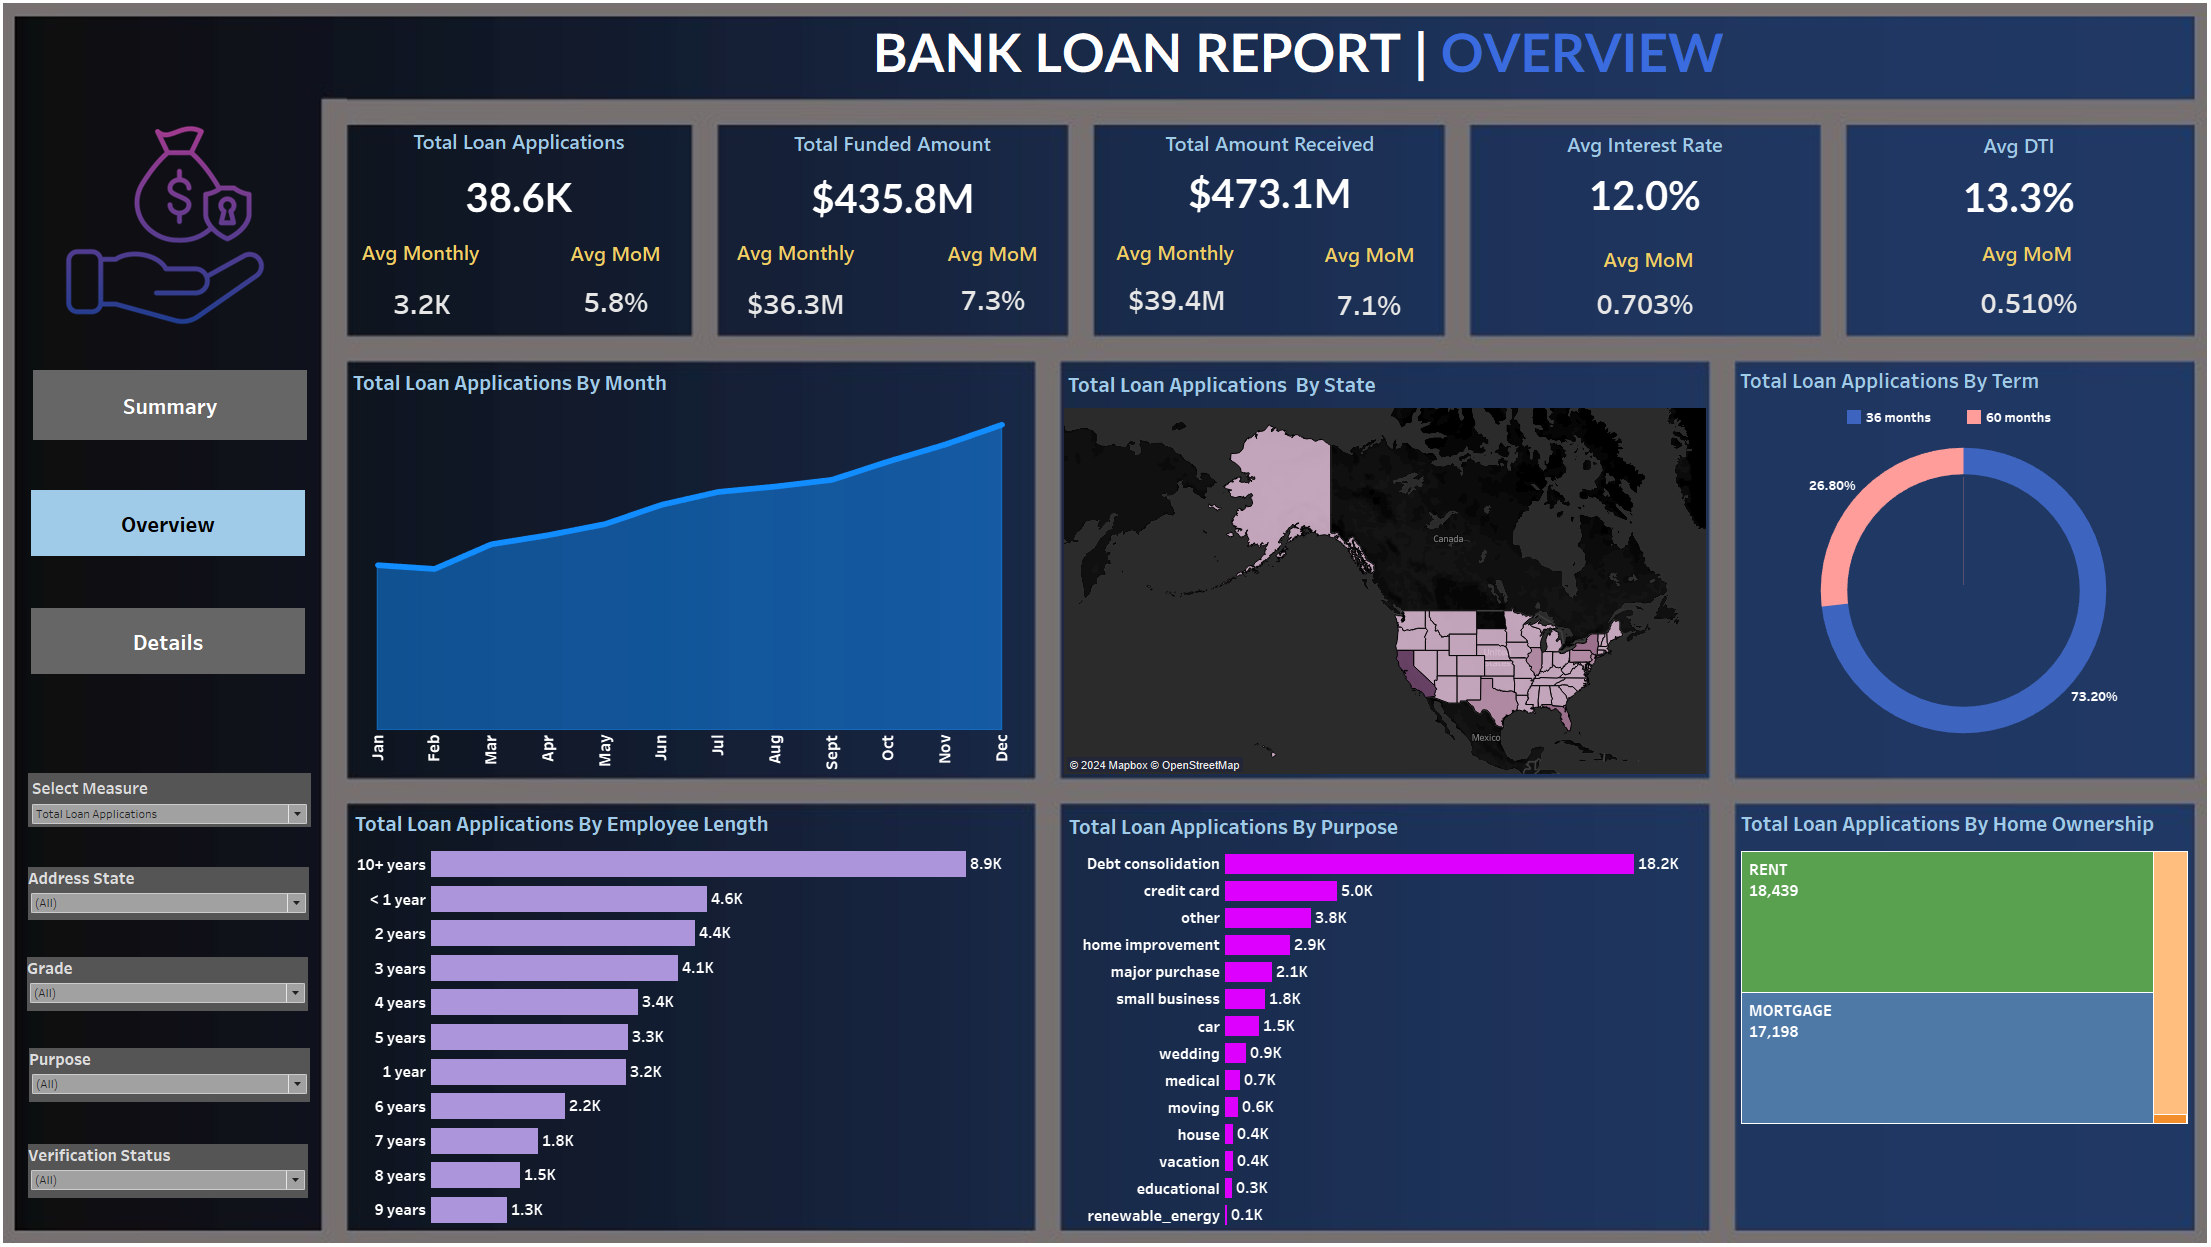

Layout of this report page (visuals, bound fields, positions):
{"tool":"tableau","page":{"name":"Overview","canvas":[2349,1264],"ordinal":1},"visuals":[{"type":"image","param":"C:/Users/AAA/Documents/Coding/SQL/Projects/Bank Loan Project/src/img/Dashboard/T","box":[8,8,2333,1248]},{"type":"text","box":[934.9,27,920.1,76]},{"type":"image","param":"C:/Users/AAA/Documents/Coding/SQL/Projects/Bank Loan Project/src/img/Dashboard/c","box":[122,129,224,210]},{"type":"worksheet","title":"Total Loan Applications","mark":"Automatic","box":[417,132,342,112]},{"type":"worksheet","title":"Total Funded Amount","mark":"Automatic","box":[787,134,349,109]},{"type":"worksheet","title":"Total Amount Received","mark":"Automatic","box":[1165,134,348,99]},{"type":"worksheet","title":"Avg Interest Rate","mark":"Automatic","box":[1540,135,348,101]},{"type":"worksheet","title":"Avg DTI","mark":"Automatic","box":[1916,136,344,103]},{"type":"text","box":[425,246,129,30]},{"type":"text","box":[800,246,129,30]},{"type":"text","box":[1179,246,130,30]},{"type":"text","box":[620,247,129,30]},{"type":"text","box":[997.5,247,129.3,30]},{"type":"text","box":[2031,247,130,30]},{"type":"text","box":[1374,248,129,30]},{"type":"text","box":[1653,253,129,30]},{"type":"worksheet","title":"Avg MoM Loan Applications","mark":"Automatic","cols":["issue_date"],"box":[611,276,148,68]},{"type":"worksheet","title":"Avg MoM Funded Loan","mark":"Automatic","cols":["issue_date"],"box":[989,276,146.3,63]},{"type":"worksheet","title":"Avg Monthly Amount Received","mark":"Automatic","box":[1169,277,153,62]},{"type":"worksheet","title":"Avg Monthly Funded Loan","mark":"Automatic","box":[790,280,150,63]},{"type":"worksheet","title":"MoM DTI","mark":"Automatic","cols":["issue_date"],"box":[2032,280,132,62]},{"type":"worksheet","title":"Avg Monthly Loan Applications","mark":"Automatic","box":[416,281,150,62]},{"type":"worksheet","title":"Avg MoM Amount Received","mark":"Automatic","cols":["issue_date"],"box":[1361,281,153,64]},{"type":"worksheet","title":"MoM Interest Rate","mark":"Automatic","cols":["issue_date"],"box":[1635,281,158,62]},{"type":"worksheet","title":"Term","mark":"Pie","rows":["Calculation_3651293419468369944","Calculation_3651293419468369944"],"box":[1805,371,455,414]},{"type":"worksheet","title":"Month","mark":"Area","rows":["Calculation_3651293419462627350","Calculation_3651293419462627350"],"cols":["issue_date"],"box":[418,373,681,409]},{"type":"worksheet","title":"State","mark":"Multipolygon","box":[1133,375,642,408]},{"type":"dashboard-object","box":[102,379,274,70]},{"type":"legend","title":"Term","param":"[federated.0fsphwt0lwau0m1359zk90dzj1ah].[none:term:nk]","box":[1913,416,266,23]},{"type":"dashboard-object","box":[100,499,274,66]},{"type":"dashboard-object","box":[100,617,274,66]},{"type":"parameter","param":"[Parameters].[Parameter 1]","box":[97,782,283,54]},{"type":"worksheet","title":"Emp Length","mark":"Automatic","rows":["emp_length"],"cols":["Calculation_3651293419462627350"],"box":[420,814,682,422]},{"type":"worksheet","title":"Home Own","mark":"Automatic","box":[1806,814,454,418]},{"type":"worksheet","title":"Purpose","mark":"Automatic","rows":["purpose"],"cols":["Calculation_3651293419462627350"],"box":[1134,817,638,421]},{"type":"filter","title":"Avg DTI","param":"[federated.0fsphwt0lwau0m1359zk90dzj1ah].[none:address_state:nk]","box":[97,876,281,53]},{"type":"filter","title":"Avg DTI","param":"[federated.0fsphwt0lwau0m1359zk90dzj1ah].[none:grade:nk]","box":[96,966,281,54]},{"type":"filter","title":"Avg DTI","param":"[federated.0fsphwt0lwau0m1359zk90dzj1ah].[none:purpose:nk]","box":[98,1057,281,54]},{"type":"filter","title":"Avg DTI","param":"[federated.0fsphwt0lwau0m1359zk90dzj1ah].[none:verification_status:nk]","box":[97,1153,280,54]}]}

Visuals, with their boxes on the page's 2349x1264 design canvas (x1, y1, x2, y2). These are canvas units, not pixel positions in the 2211x1247 screenshot, which may show the page scaled, cropped or inside an application window:
image: bbox=[8, 8, 2341, 1256]
text: bbox=[935, 27, 1855, 103]
image: bbox=[122, 129, 346, 339]
"Total Loan Applications" worksheet: bbox=[417, 132, 759, 244]
"Total Funded Amount" worksheet: bbox=[787, 134, 1136, 243]
"Total Amount Received" worksheet: bbox=[1165, 134, 1513, 233]
"Avg Interest Rate" worksheet: bbox=[1540, 135, 1888, 236]
"Avg DTI" worksheet: bbox=[1916, 136, 2260, 239]
text: bbox=[425, 246, 554, 276]
text: bbox=[800, 246, 929, 276]
text: bbox=[1179, 246, 1309, 276]
text: bbox=[620, 247, 749, 277]
text: bbox=[998, 247, 1127, 277]
text: bbox=[2031, 247, 2161, 277]
text: bbox=[1374, 248, 1503, 278]
text: bbox=[1653, 253, 1782, 283]
"Avg MoM Loan Applications" worksheet: bbox=[611, 276, 759, 344]
"Avg MoM Funded Loan" worksheet: bbox=[989, 276, 1135, 339]
"Avg Monthly Amount Received" worksheet: bbox=[1169, 277, 1322, 339]
"Avg Monthly Funded Loan" worksheet: bbox=[790, 280, 940, 343]
"MoM DTI" worksheet: bbox=[2032, 280, 2164, 342]
"Avg Monthly Loan Applications" worksheet: bbox=[416, 281, 566, 343]
"Avg MoM Amount Received" worksheet: bbox=[1361, 281, 1514, 345]
"MoM Interest Rate" worksheet: bbox=[1635, 281, 1793, 343]
"Term" worksheet (Pie marks): bbox=[1805, 371, 2260, 785]
"Month" worksheet (Area marks): bbox=[418, 373, 1099, 782]
"State" worksheet (Multipolygon marks): bbox=[1133, 375, 1775, 783]
dashboard-object: bbox=[102, 379, 376, 449]
"Term" legend: bbox=[1913, 416, 2179, 439]
dashboard-object: bbox=[100, 499, 374, 565]
dashboard-object: bbox=[100, 617, 374, 683]
parameter: bbox=[97, 782, 380, 836]
"Emp Length" worksheet: bbox=[420, 814, 1102, 1236]
"Home Own" worksheet: bbox=[1806, 814, 2260, 1232]
"Purpose" worksheet: bbox=[1134, 817, 1772, 1238]
"Avg DTI" filter: bbox=[97, 876, 378, 929]
"Avg DTI" filter: bbox=[96, 966, 377, 1020]
"Avg DTI" filter: bbox=[98, 1057, 379, 1111]
"Avg DTI" filter: bbox=[97, 1153, 377, 1207]
